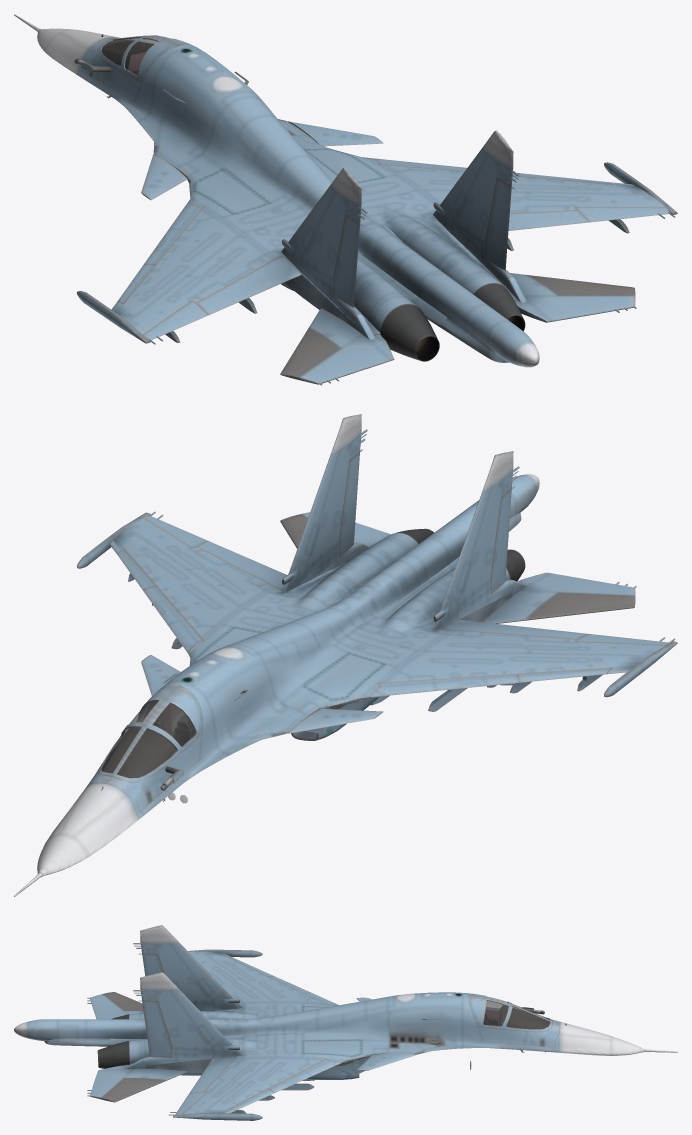
3 views of the same model, one above another, from view 1: azimuth 30°, elevation 25°; view 2: azimuth 150°, elevation 25°; view 3: azimuth 270°, elevation 25° (orthographic). The views are drawn at different scales.
Visible parts, largest first — view 1: body|Paint, body|glass; view 2: body|Paint, body|glass; view 3: body|Paint, body|glass.
Boxes of the visible parts, x1,y1,x2,y2 form: body|Paint: (14, 14, 677, 385); body|glass: (101, 37, 170, 75); body|Paint: (14, 414, 677, 896); body|glass: (101, 700, 195, 803); body|Paint: (14, 925, 677, 1120); body|glass: (470, 996, 550, 1069).
Size of the model in its own units: 14.73 by 4.96 by 25.03.
2 materials, 1 textured.
